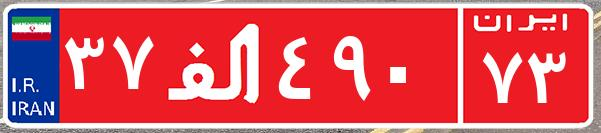0: (385, 28, 445, 110)
3: (57, 26, 110, 107), (525, 38, 570, 115)
4: (273, 28, 330, 110)
7: (475, 38, 525, 113), (110, 28, 158, 105)
9: (330, 28, 385, 110)
الف: (158, 15, 273, 115)
